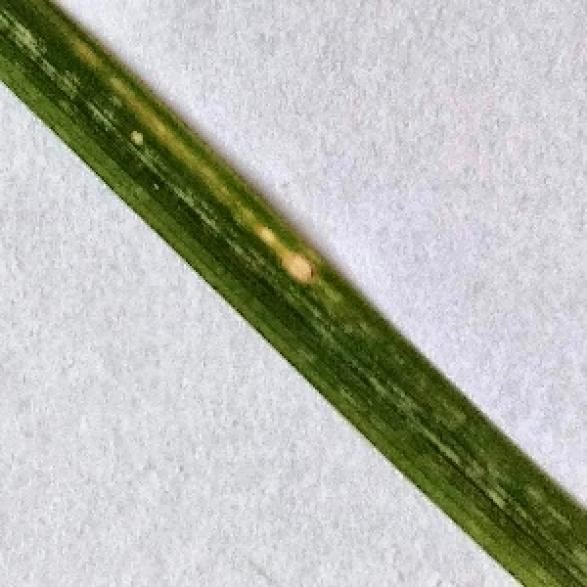Leaf_smut: (18, 12, 585, 579)
